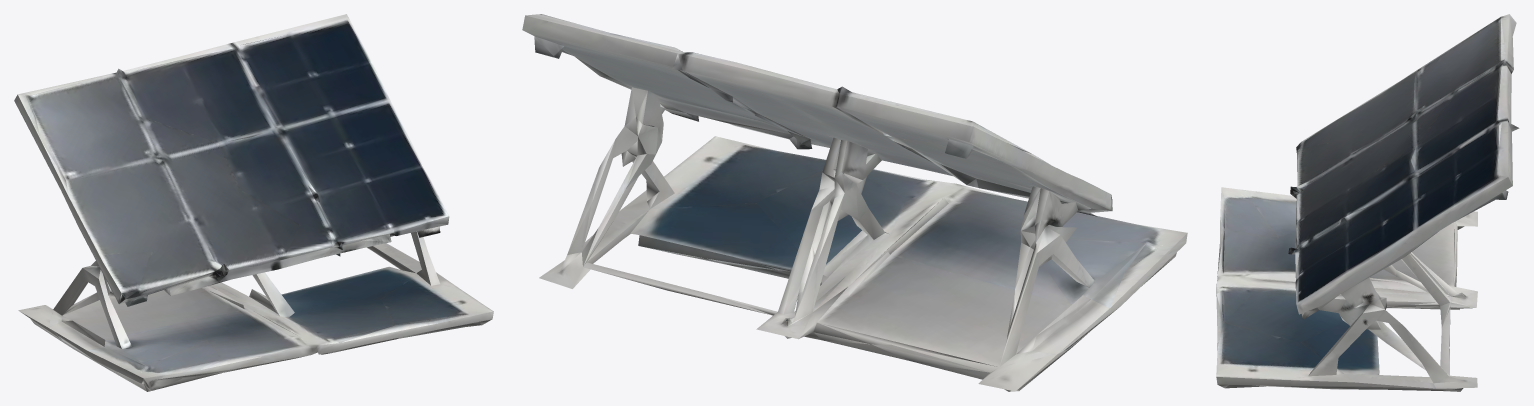
Rendered from groundSolarPanelV2.glb.
3 views of the same model, side by side, from view 1: azimuth 30°, elevation 25°; view 2: azimuth 150°, elevation 25°; view 3: azimuth 270°, elevation 25° (orthographic). The views are drawn at different scales.
Parts seen in each view (by area): view 1: model; view 2: model; view 3: model.
Part boxes in pixels (x1=…): model: x1=14, y1=14, x2=493, y2=391; model: x1=522, y1=14, x2=1187, y2=391; model: x1=1216, y1=14, x2=1519, y2=391.
Size of the model in its own units: 1.89 by 1.12 by 1.39.
Materials: 1 (1 with a texture image).
